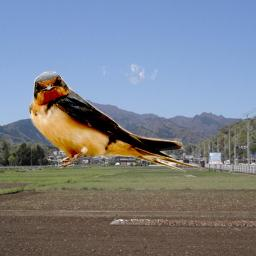Swallow: (27, 71, 202, 178)
